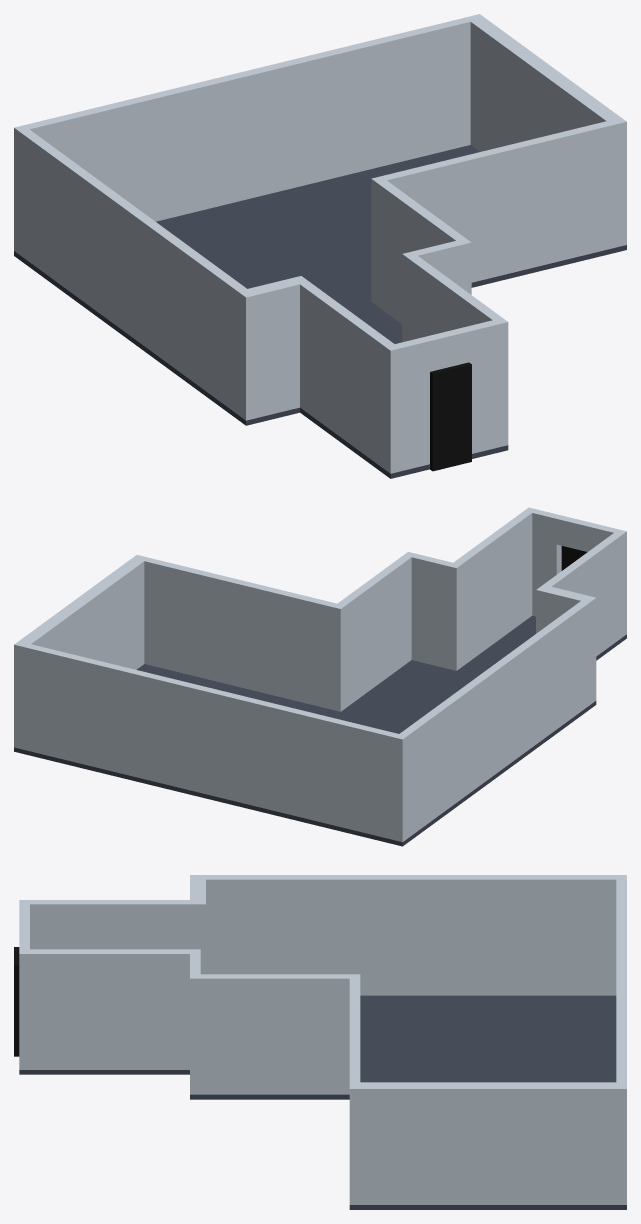
Rendered from house.obj.
The picture shows the model from 3 angles, top to bottom: view 1: azimuth 30°, elevation 25°; view 2: azimuth 150°, elevation 25°; view 3: azimuth 270°, elevation 25°; orthographic projection. The views are drawn at different scales.
Size of the model in its own units: 9.5 by 2.5 by 11.5.
Materials: 1 (1 with a texture image).
